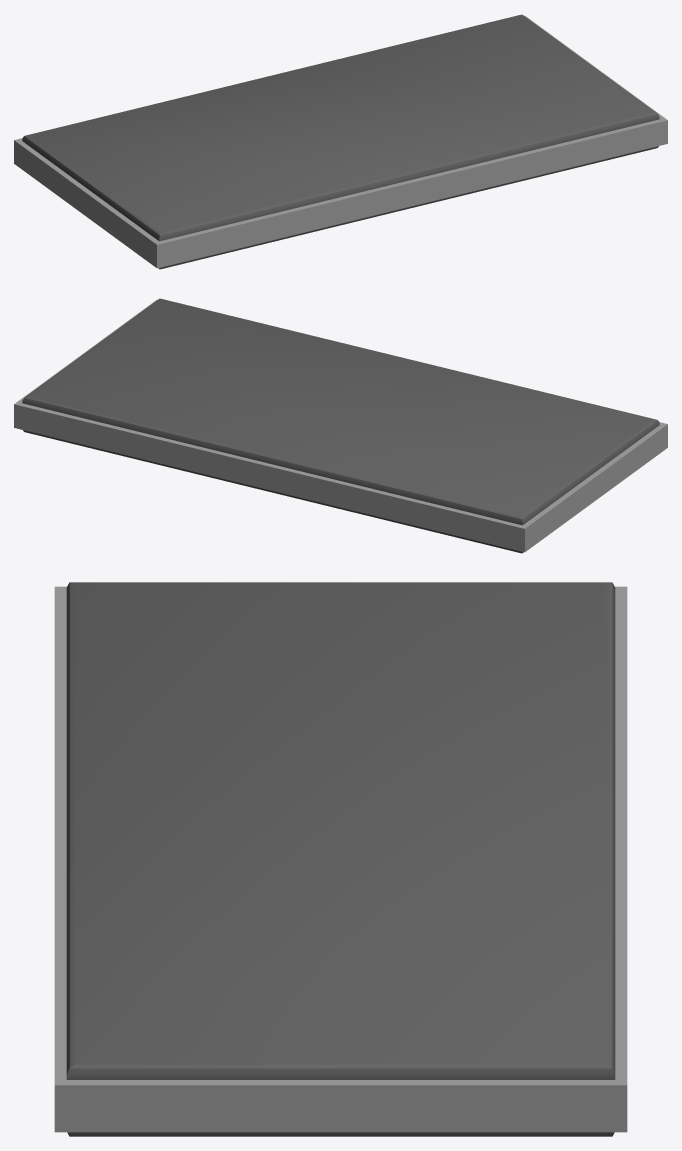
File: Shelf_07_Shelf.glb
The picture shows the model from 3 angles, top to bottom: view 1: azimuth 30°, elevation 25°; view 2: azimuth 150°, elevation 25°; view 3: azimuth 270°, elevation 25°; orthographic projection. The views are drawn at different scales.
Parts seen in each view (by area): view 1: Mesh_Shelf_07_shelf; view 2: Mesh_Shelf_07_shelf; view 3: Mesh_Shelf_07_shelf.
Part boxes in pixels (box(x1,y1,x2,y2)): Mesh_Shelf_07_shelf: box(14, 14, 667, 269); Mesh_Shelf_07_shelf: box(14, 298, 667, 553); Mesh_Shelf_07_shelf: box(54, 582, 627, 1136).
Size of the model in its own units: 1.7 by 0.1172 by 0.825.
Materials: 1 (1 with a texture image).
